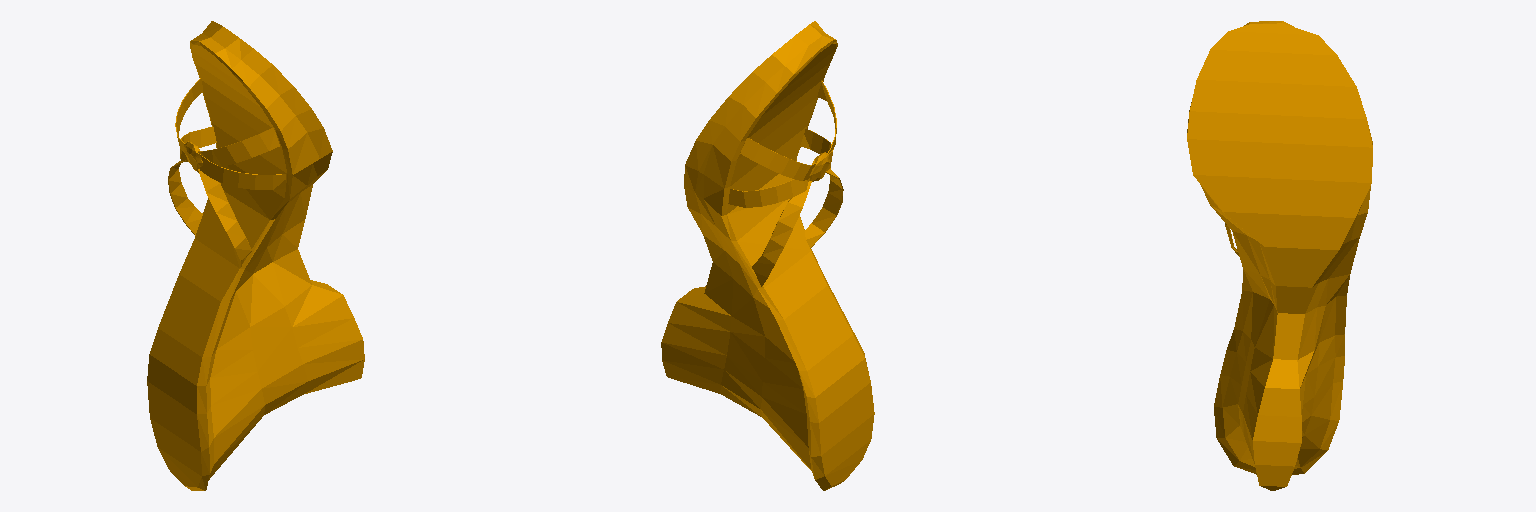
robot.urdf — WedgeShoe2:
<?xml version="1.0"?>
<robot name="WedgeShoe2">
  <link name="base_link">
    <contact>
      <lateral_friction value="1.0"/>
      <rolling_friction value="0.0"/>
      <contact_cfm value="0.0"/>
      <contact_erp value="1.0"/>
    </contact>
    <inertial>
      <mass value="0.0254637284117"/>
      <inertia ixx="1" ixy="0" ixz="0" iyy="1" iyz="0" izz="1"/>
    </inertial>
    <visual>
      <geometry>
        <mesh filename="WedgeShoe2_visual.obj"/>
      </geometry>
    </visual>
    <collision>
      <geometry>
        <mesh filename="WedgeShoe2_collision.obj"/>
      </geometry>
    </collision>
  </link>
</robot>

--- What the picture shows (computed from the rendered views, not written in the file) ---
The picture shows the robot from 3 angles, left to right: view 1: azimuth 30°, elevation 25°; view 2: azimuth 150°, elevation 25°; view 3: azimuth 270°, elevation 25°; orthographic projection.
Robot: WedgeShoe2 — 1 links, 0 joints (none); root link base_link; default pose: all joints at 0.
Visible links, largest first — view 1: base_link; view 2: base_link; view 3: base_link.
Boxes of the visible links, x1,y1,x2,y2 form: base_link: [147, 21, 364, 490]; base_link: [661, 21, 874, 490]; base_link: [1187, 21, 1372, 490].
Bounding box of the posed robot: 0.045 × 0.038 × 0.1071 m (x, y, z).
Meshes: 1 distinct files referenced, 1 mesh visuals loaded (1 OBJ).